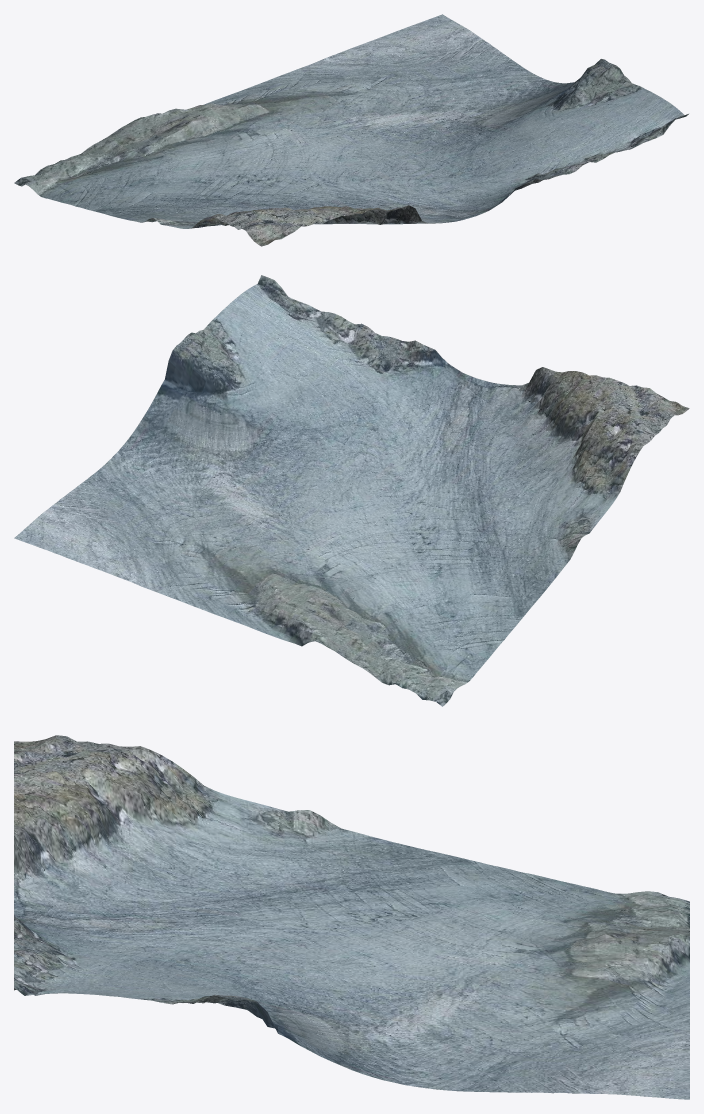
File: Silv_tile_8.gltf
3 views of the same model, one above another, from view 1: azimuth 30°, elevation 25°; view 2: azimuth 150°, elevation 25°; view 3: azimuth 270°, elevation 25° (orthographic). The views are drawn at different scales.
Parts seen in each view (by area): view 1: 18.058; view 2: 18.058; view 3: 18.058.
Part boxes in pixels (x1,y1,x2,y2): 18.058: [14, 14, 688, 246]; 18.058: [14, 275, 689, 706]; 18.058: [14, 735, 689, 1099].
Bounding box in the file's own units: 0.5 × 0.1631 × 0.5.
1 material, 1 textured.
